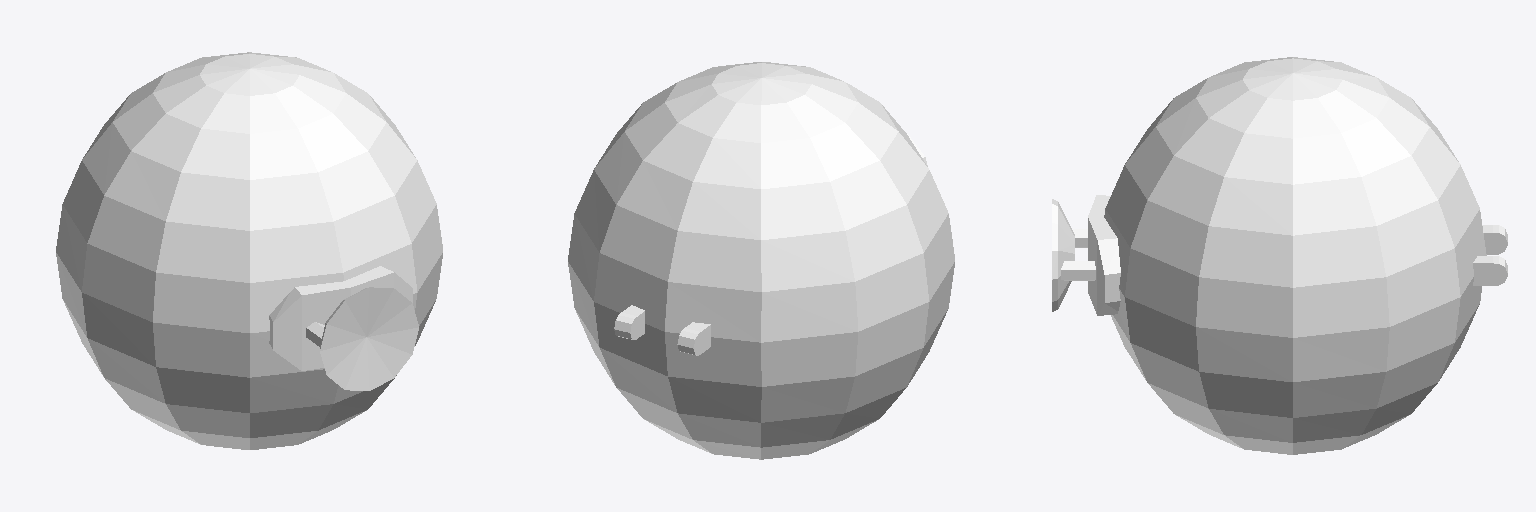
3 renders of one model, left to right at view 1: azimuth 30°, elevation 25°; view 2: azimuth 150°, elevation 25°; view 3: azimuth 270°, elevation 25°, orthographic.
Visible parts, largest first — view 1: Mesh1_B_globe; view 2: Mesh1_B_globe, Mesh2_B_joint; view 3: Mesh1_B_globe, Mesh2_B_joint.
Boxes of the visible parts, x1=… form: Mesh1_B_globe: x1=56, y1=52, x2=442, y2=449; Mesh1_B_globe: x1=568, y1=62, x2=954, y2=459; Mesh2_B_joint: x1=614, y1=305, x2=710, y2=355; Mesh1_B_globe: x1=1052, y1=57, x2=1486, y2=454; Mesh2_B_joint: x1=1473, y1=225, x2=1507, y2=285.
Bounding box in the file's own units: 16.4 × 17.07 × 19.33.